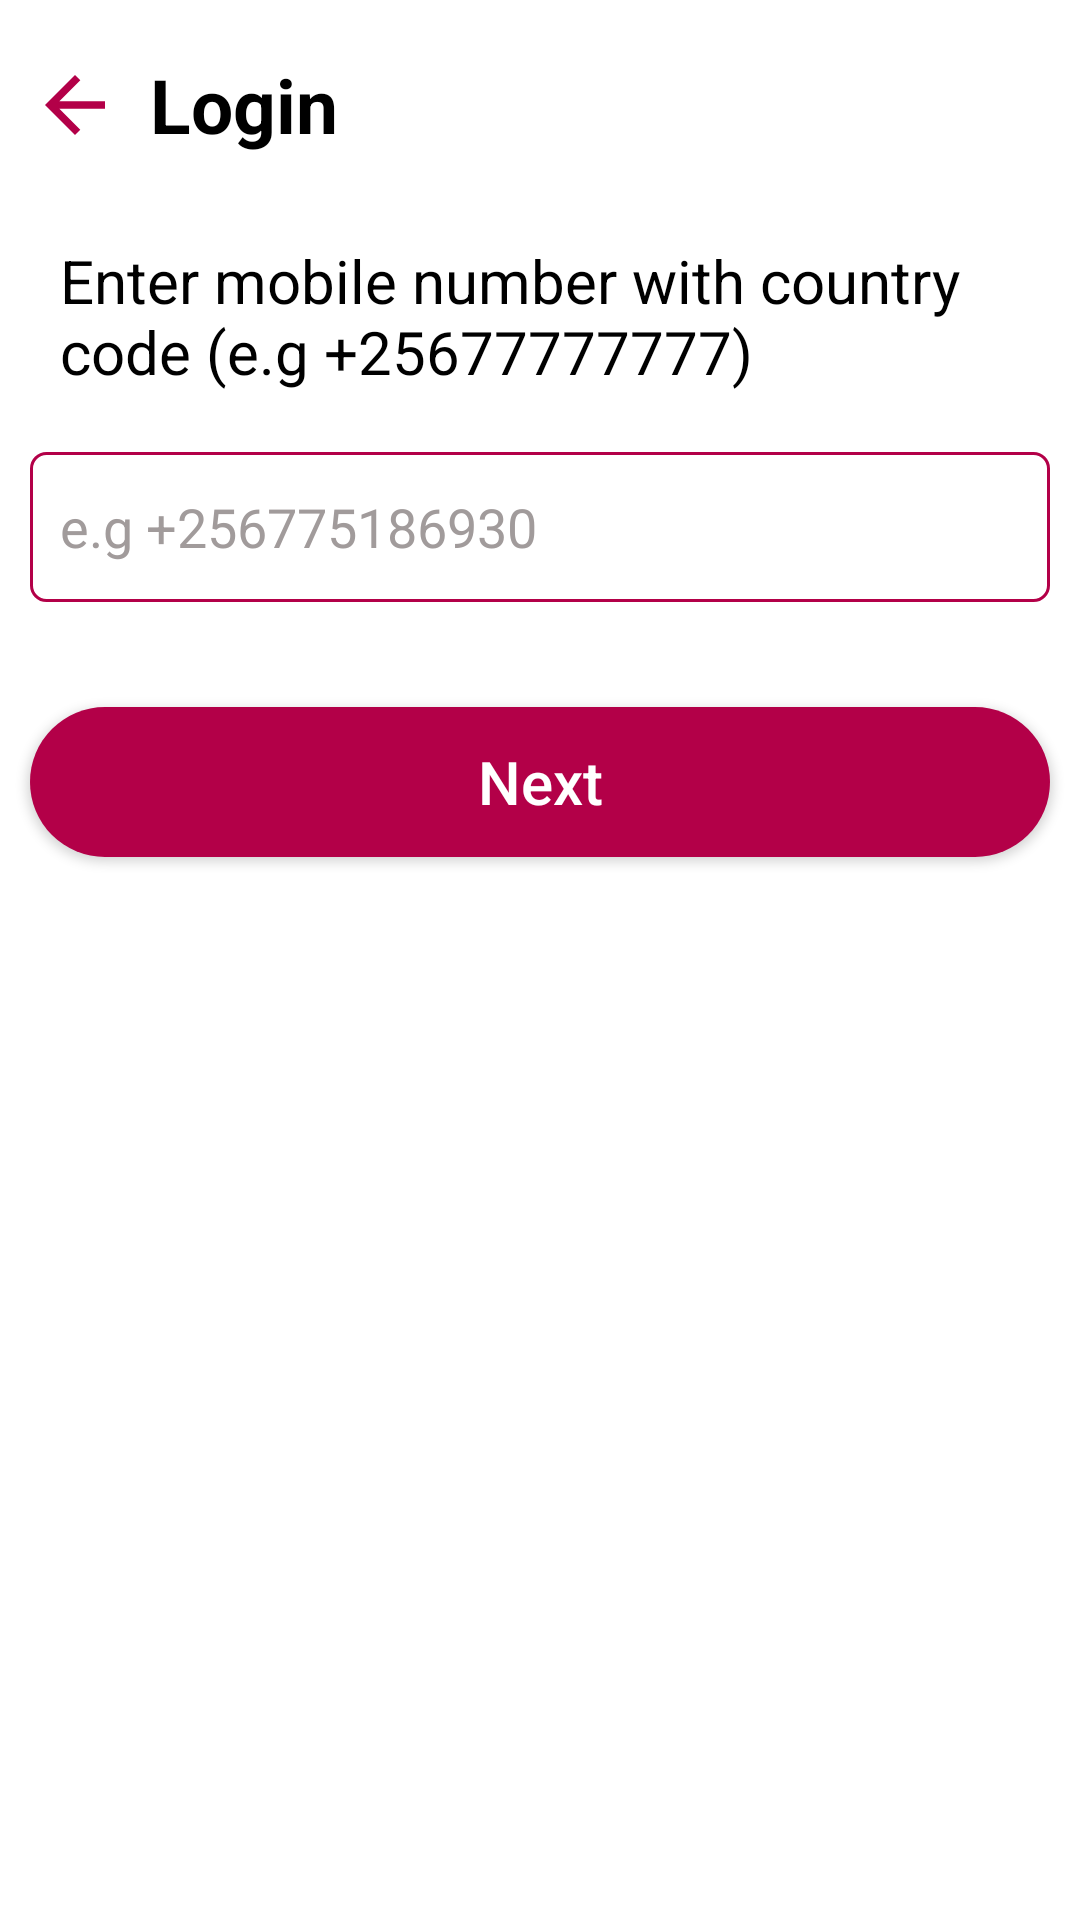

Where to tap for icons on this 1080w x 1920h app screen, as [x,y]:
back: [75,105]
